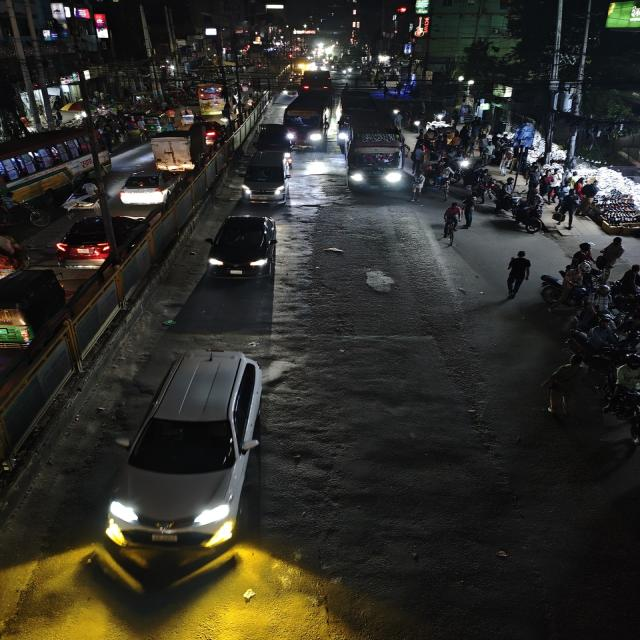bicycle: (438, 203, 463, 245)
bus: (0, 127, 105, 203), (338, 104, 408, 196), (283, 90, 336, 149), (194, 81, 231, 115)
car: (110, 346, 270, 552), (53, 212, 148, 270), (203, 212, 281, 282), (238, 149, 295, 205), (118, 167, 181, 207), (251, 121, 295, 151)
cng: (0, 266, 69, 352), (141, 110, 173, 133)
motorcycle: (490, 186, 544, 233)
pedestrian: (502, 250, 531, 297), (598, 234, 627, 272), (556, 192, 578, 230)
rickshaw: (0, 192, 43, 231), (0, 228, 31, 282), (60, 180, 104, 212)
truck: (146, 124, 219, 172)
